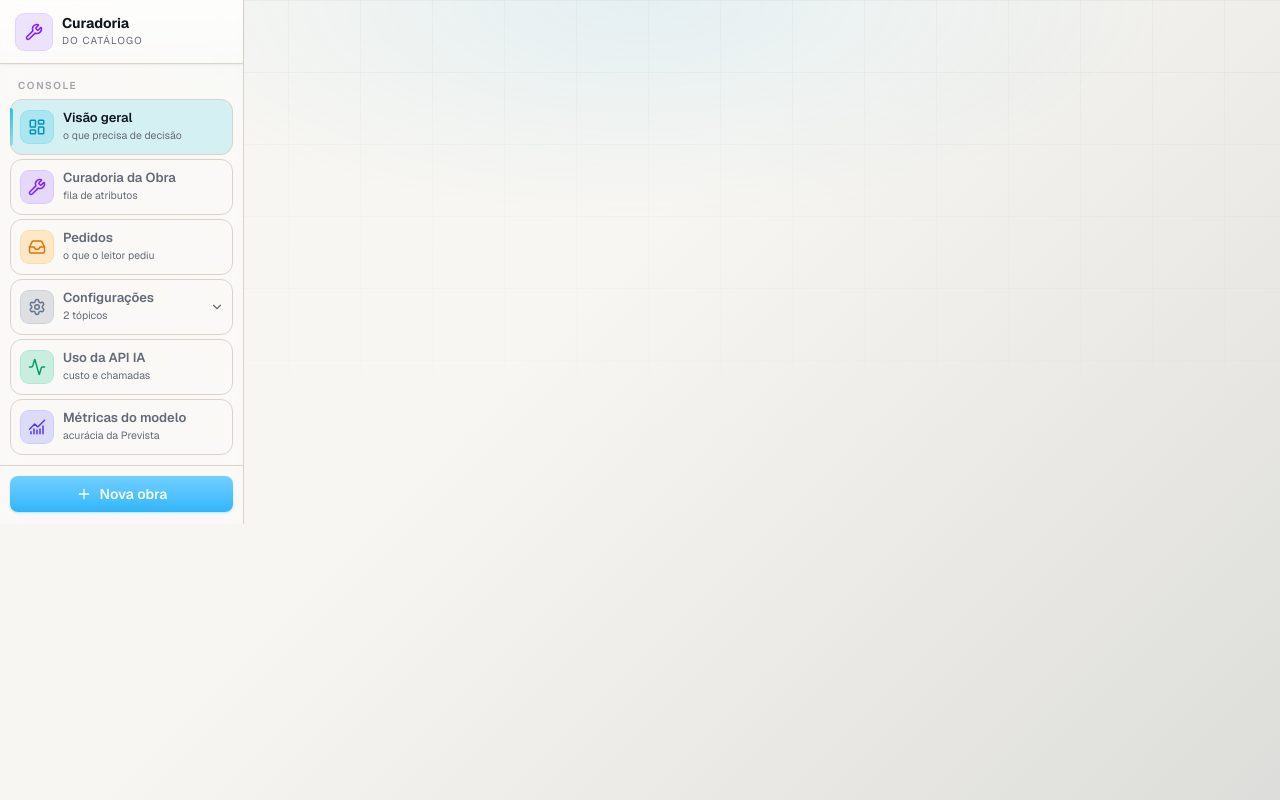
ramo Configurações da sidebar da console › clicar expande e recolhe os tópicos
Check: the text "Gerado por IA" is not shown
Click the button "Configurações 2 tópicos": (122, 307) left=10, top=279, right=233, bottom=335
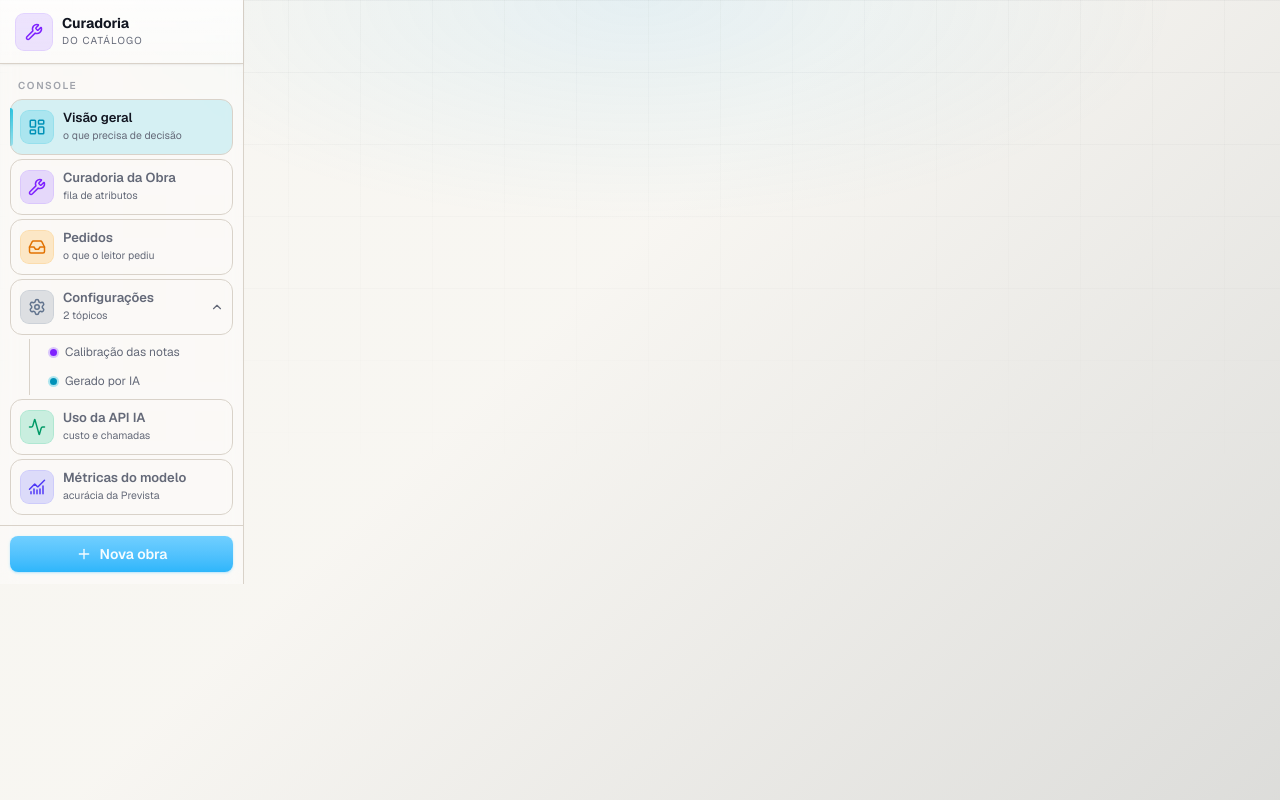
Check: the button "Configurações 2 tópicos" is expanded
Check: the text "Gerado por IA" is shown, box left=65, top=373, right=140, bottom=389
Click the button "Configurações 2 tópicos": (122, 307) left=10, top=279, right=233, bottom=335
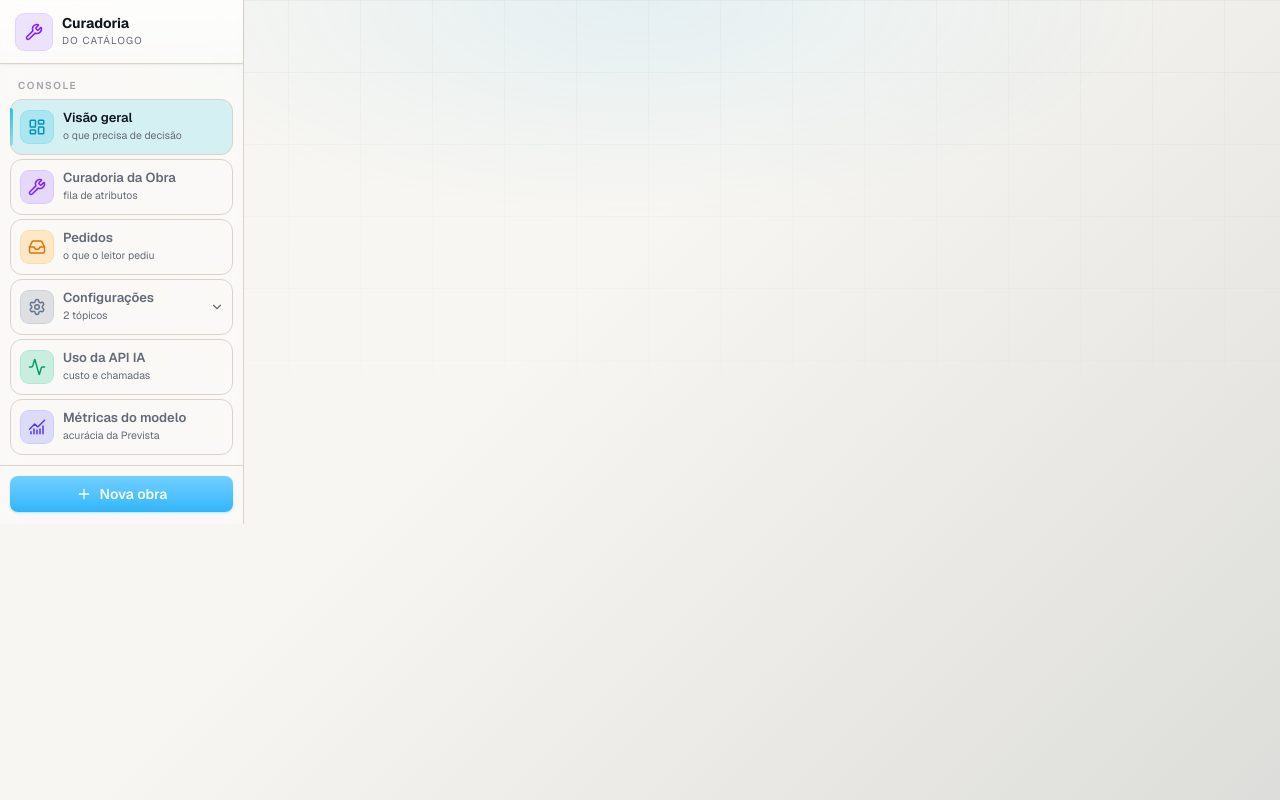
Check: the button "Configurações 2 tópicos" is collapsed, box left=10, top=279, right=233, bottom=335
Check: the link "Gerado por IA" is gone
